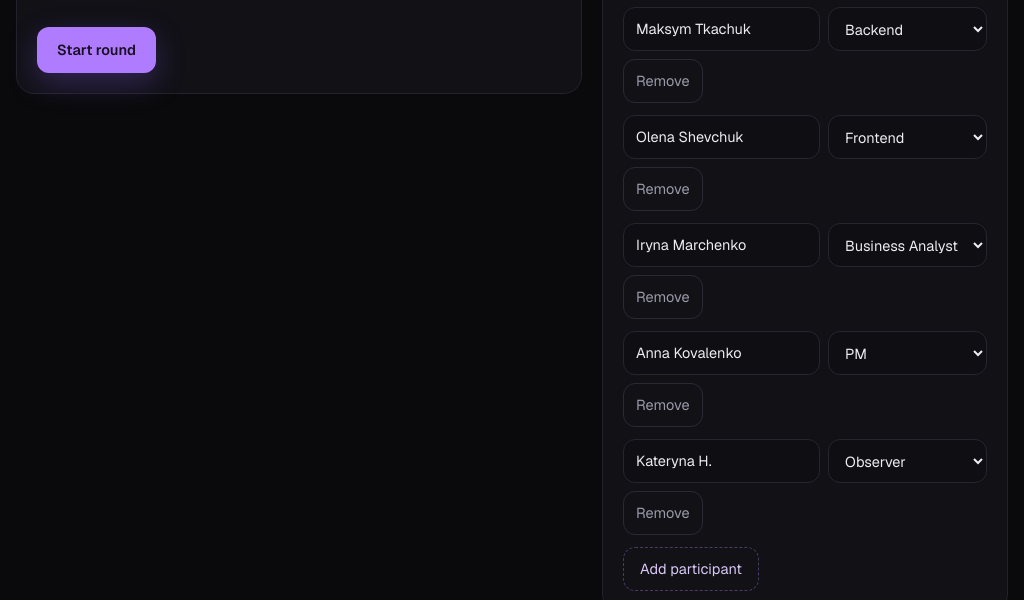
the operator builds the roster › trims a name on the way into the round
The width and height of the screenshot is (1024, 600).
(page scrolled)
Click the button "Add participant" at (691, 569), box [623, 547, 759, 591]
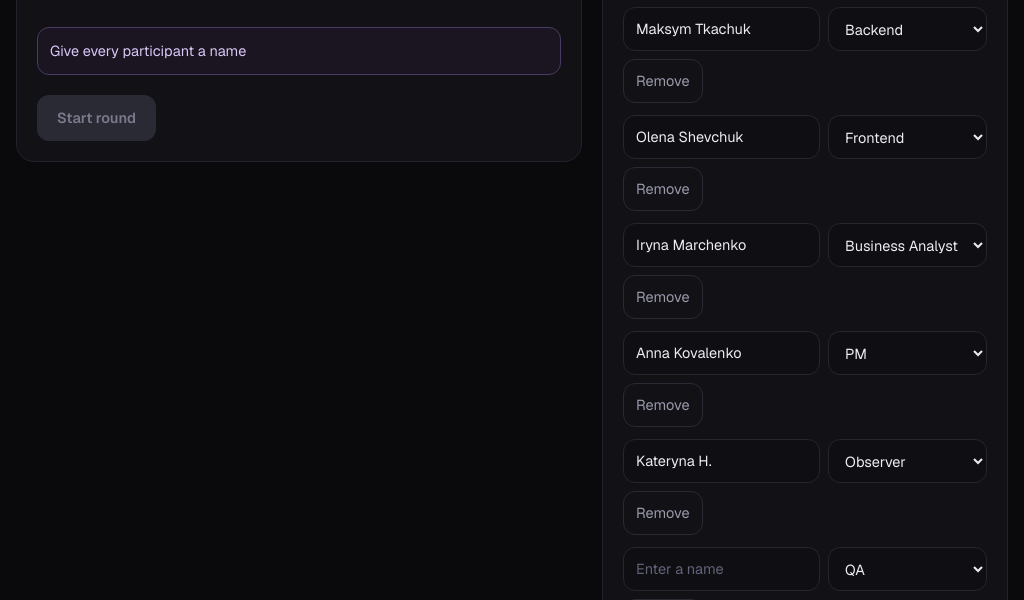
Type "  Ivan Petrenko  " into the field with placeholder "Enter a name" at (722, 569), box [623, 547, 820, 591]
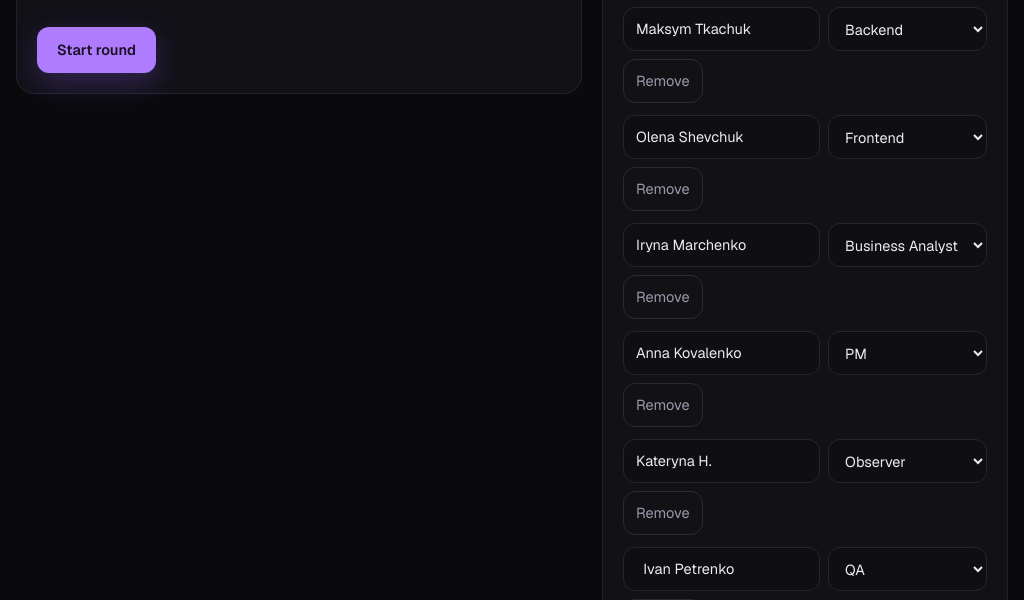
Select "PM" in the dropdown named "Part for Ivan Petrenko" at (908, 569), box [828, 547, 987, 591]
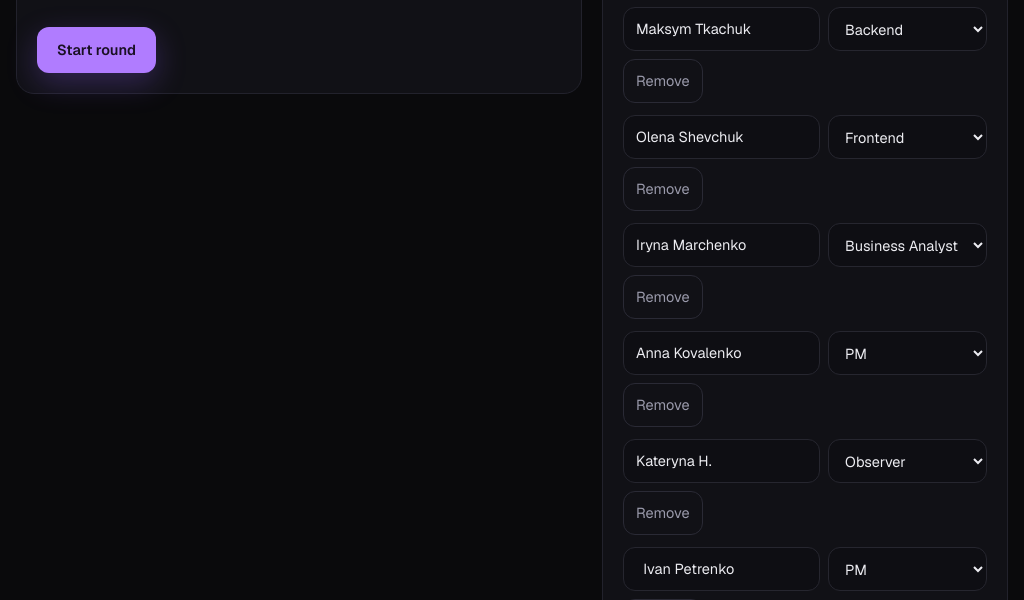
Click the button "Start round" at (96, 50), box [37, 27, 156, 73]
(page scrolled)
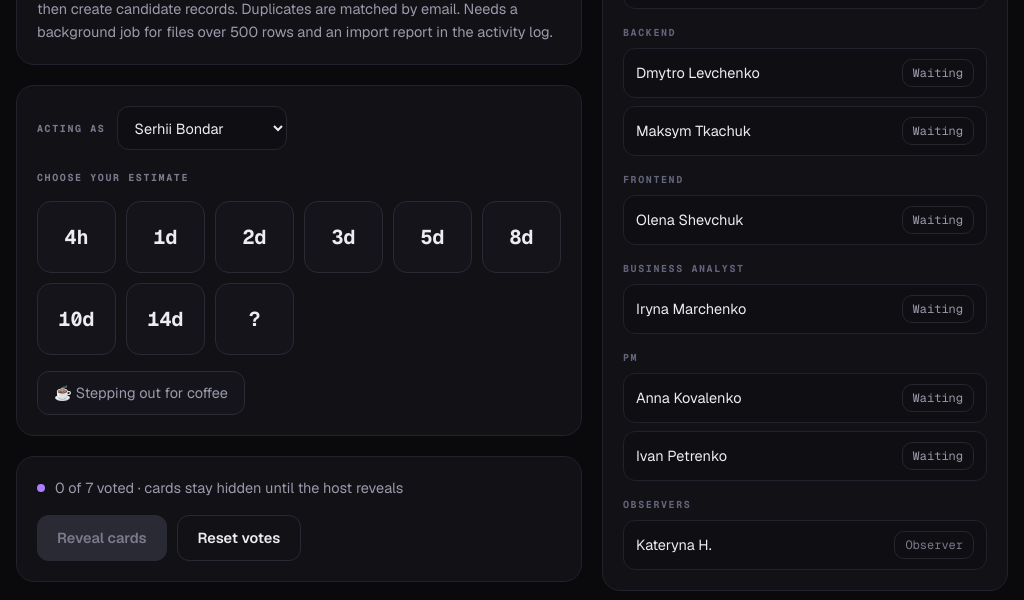
Result: the text "Ivan Petrenko" is shown at [636, 445, 727, 467]
